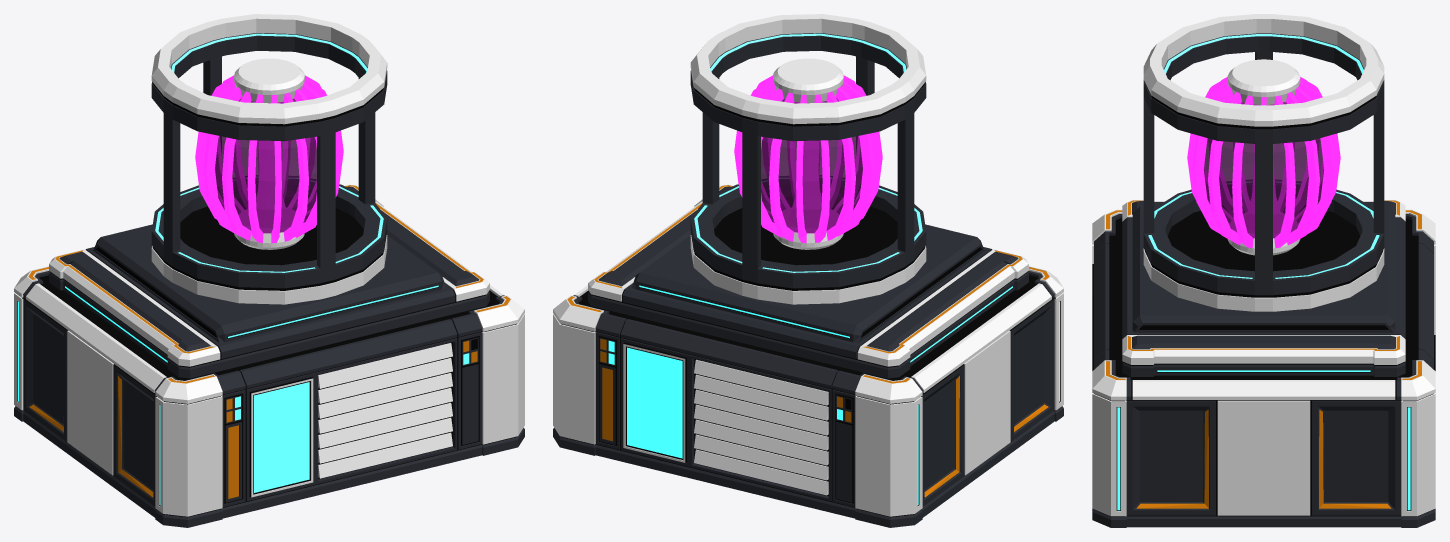
Rendered from SM_Fusion_T2.fbx.
3 renders of one model, left to right at view 1: azimuth 30°, elevation 25°; view 2: azimuth 150°, elevation 25°; view 3: azimuth 270°, elevation 25°, orthographic. The views are drawn at different scales.
Parts seen in each view (by area): view 1: SM_Fusion_T2; view 2: SM_Fusion_T2; view 3: SM_Fusion_T2.
Part boxes in pixels (box(x1,y1,x2,y2)): SM_Fusion_T2: box(14, 14, 524, 527); SM_Fusion_T2: box(553, 14, 1063, 527); SM_Fusion_T2: box(1092, 14, 1435, 527).
Bounding box in the file's own units: 250 × 241 × 200.
